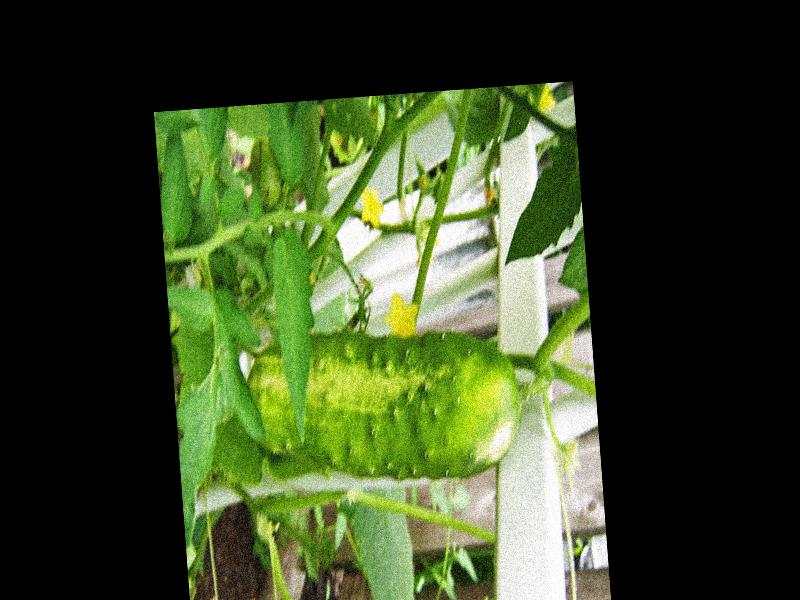Cucumber: (247, 325, 526, 491)
